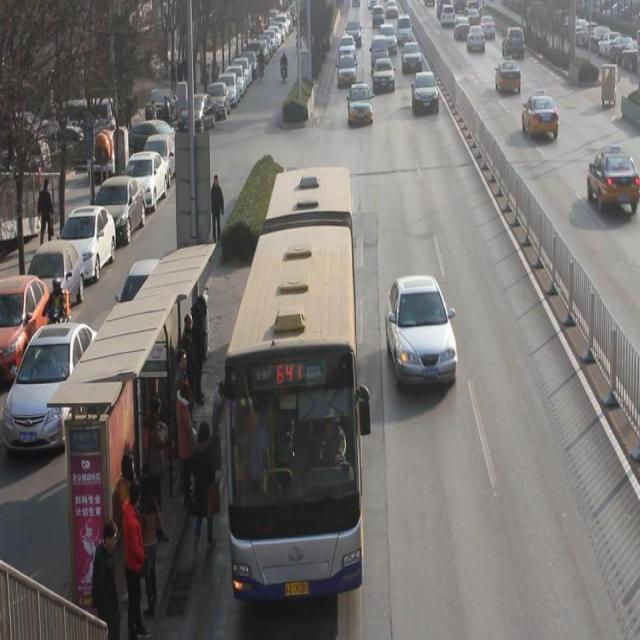car: (385, 276, 458, 390), (587, 145, 640, 218), (521, 92, 559, 142), (411, 72, 440, 116), (347, 82, 373, 128), (495, 56, 522, 95), (373, 59, 395, 94), (502, 28, 526, 60), (401, 41, 423, 75), (338, 54, 358, 87), (466, 25, 485, 53)
truck: (370, 35, 390, 73)
van: (227, 165, 362, 597)
